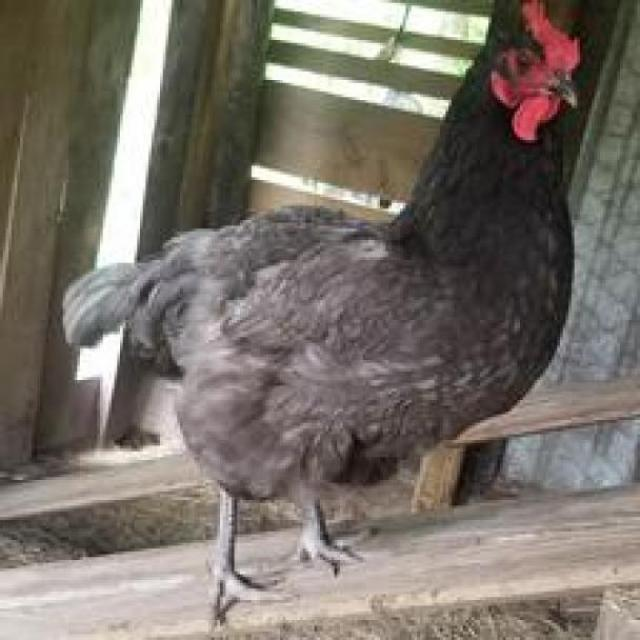Chicken: (63, 15, 636, 617)
